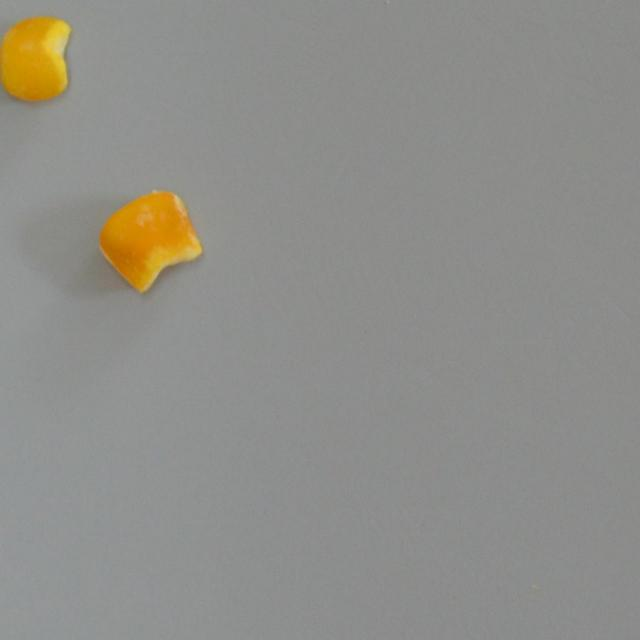dañado: (89, 179, 215, 305)
no_canjicado: (0, 6, 91, 107)
